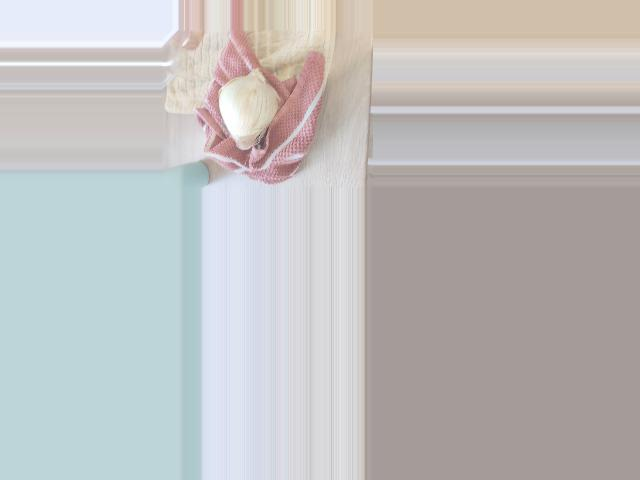onion: (214, 74, 281, 144)
